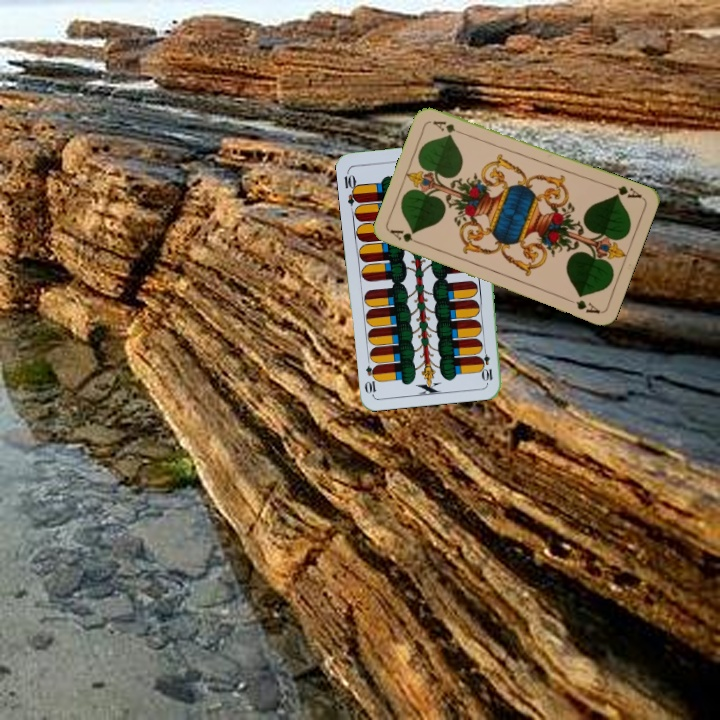E10: (340, 167, 362, 208), (478, 343, 495, 384)
GA: (387, 226, 426, 248), (605, 181, 644, 201)
